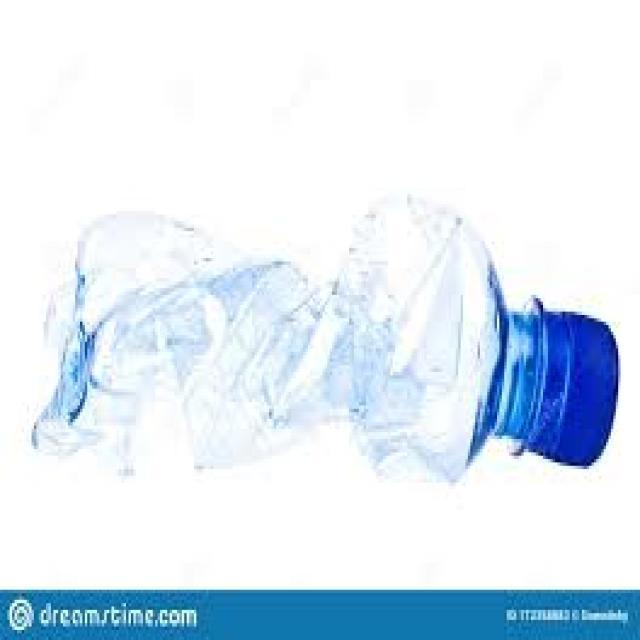Plastic: (28, 189, 622, 483)
